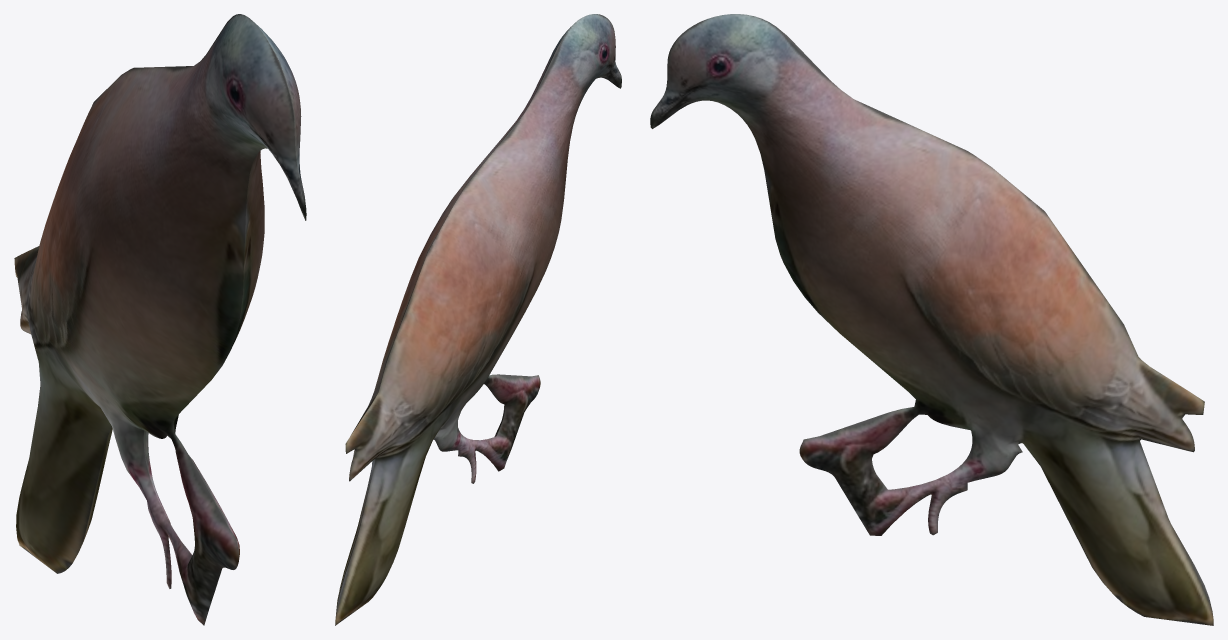
3 renders of one model, left to right at view 1: azimuth 30°, elevation 25°; view 2: azimuth 150°, elevation 25°; view 3: azimuth 270°, elevation 25°, orthographic. The views are drawn at different scales.
Visible parts, largest first — view 1: node1; view 2: node1; view 3: node1.
Boxes of the visible parts, x1=… form: node1: x1=14, y1=14, x2=306, y2=625; node1: x1=335, y1=14, x2=621, y2=625; node1: x1=650, y1=14, x2=1213, y2=625.
Size of the model in its own units: 0.2831 by 1.35 by 1.19.
Materials: 1 (1 with a texture image).
